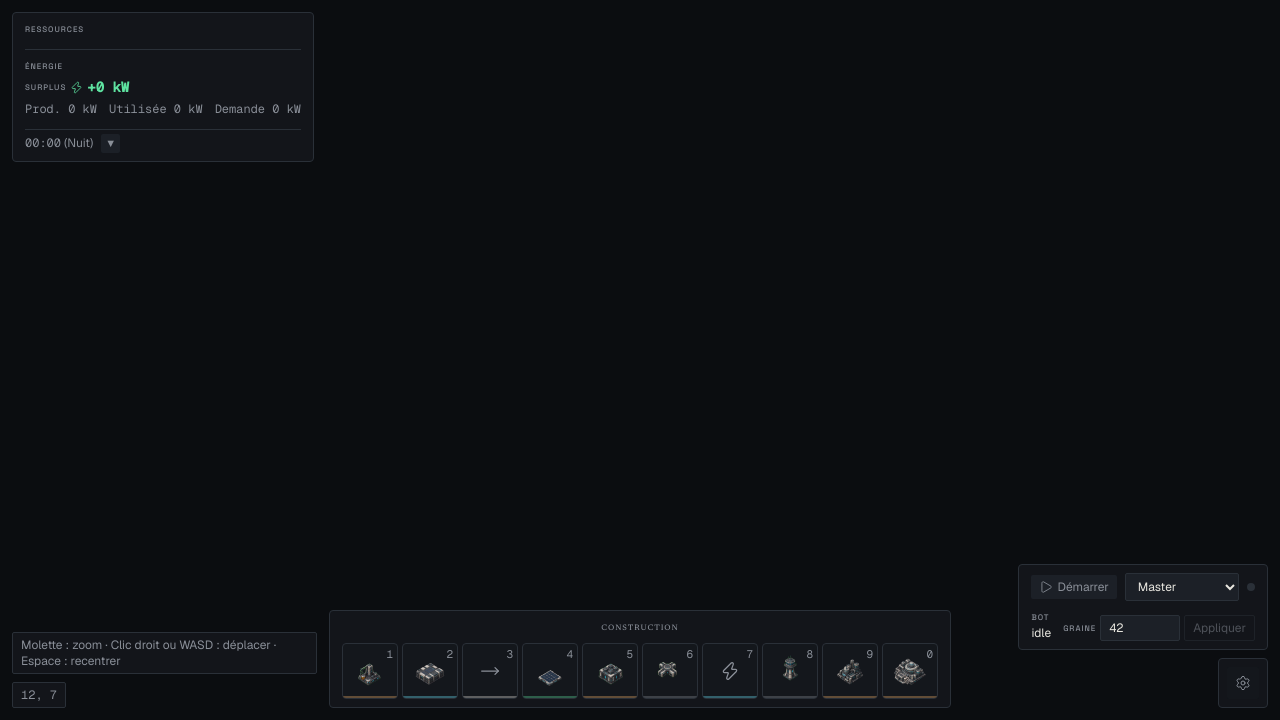
GameHUD › shows scenario generator actions in the debug panel
Click the button named "Outils de simulation": (111, 144) [101, 134, 120, 153]
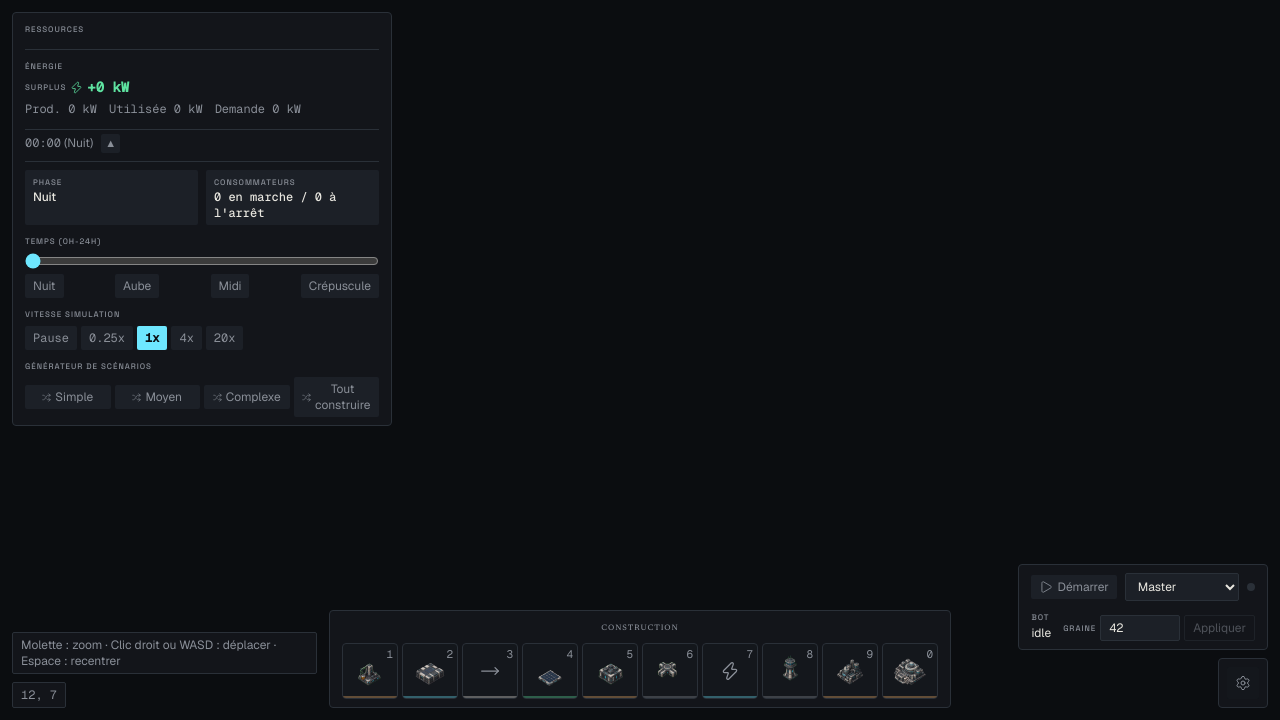
Expected: the text "Générateur de scénarios" is shown, [25, 357, 152, 373]
Expected: the button "Simple" is shown, [25, 385, 110, 409]
Expected: the button "Moyen" is shown, [114, 385, 200, 409]
